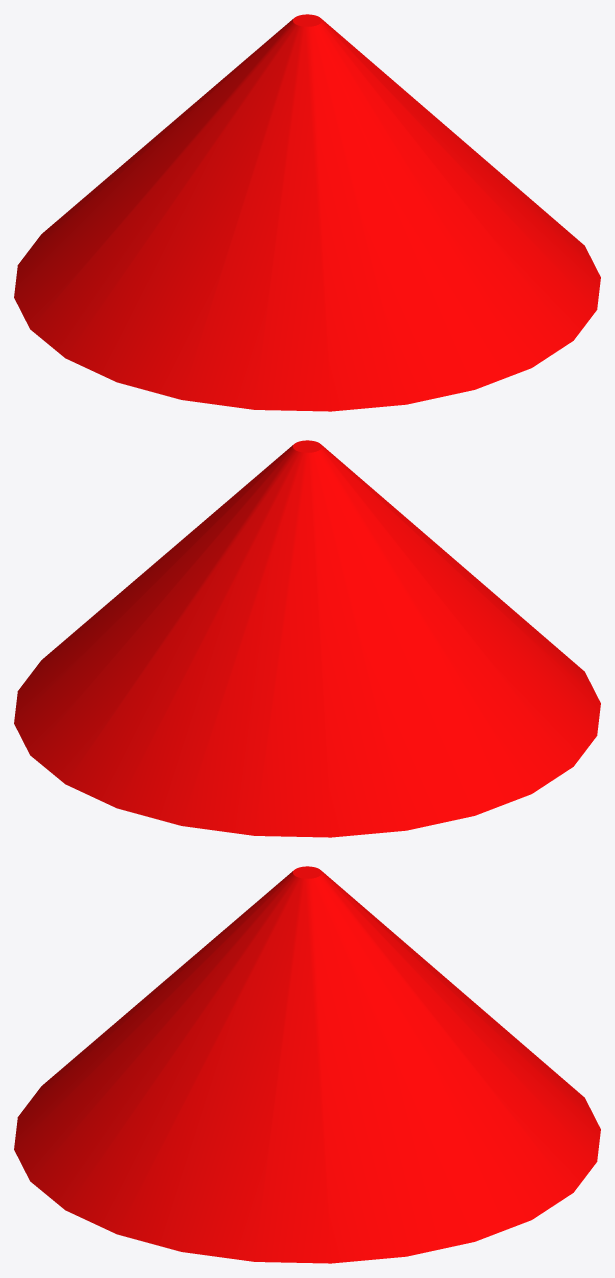
File: Michinoeki.glb
The picture shows the model from 3 angles, top to bottom: view 1: azimuth 30°, elevation 25°; view 2: azimuth 150°, elevation 25°; view 3: azimuth 270°, elevation 25°; orthographic projection.
Visible parts, largest first — view 1: Geom3D; view 2: Geom3D; view 3: Geom3D.
Boxes of the visible parts, <box> form: Geom3D: <box>14,14,600,411</box>; Geom3D: <box>14,440,600,837</box>; Geom3D: <box>14,866,600,1263</box>.
Size of the model in its own units: 1.99 by 1 by 1.99.
